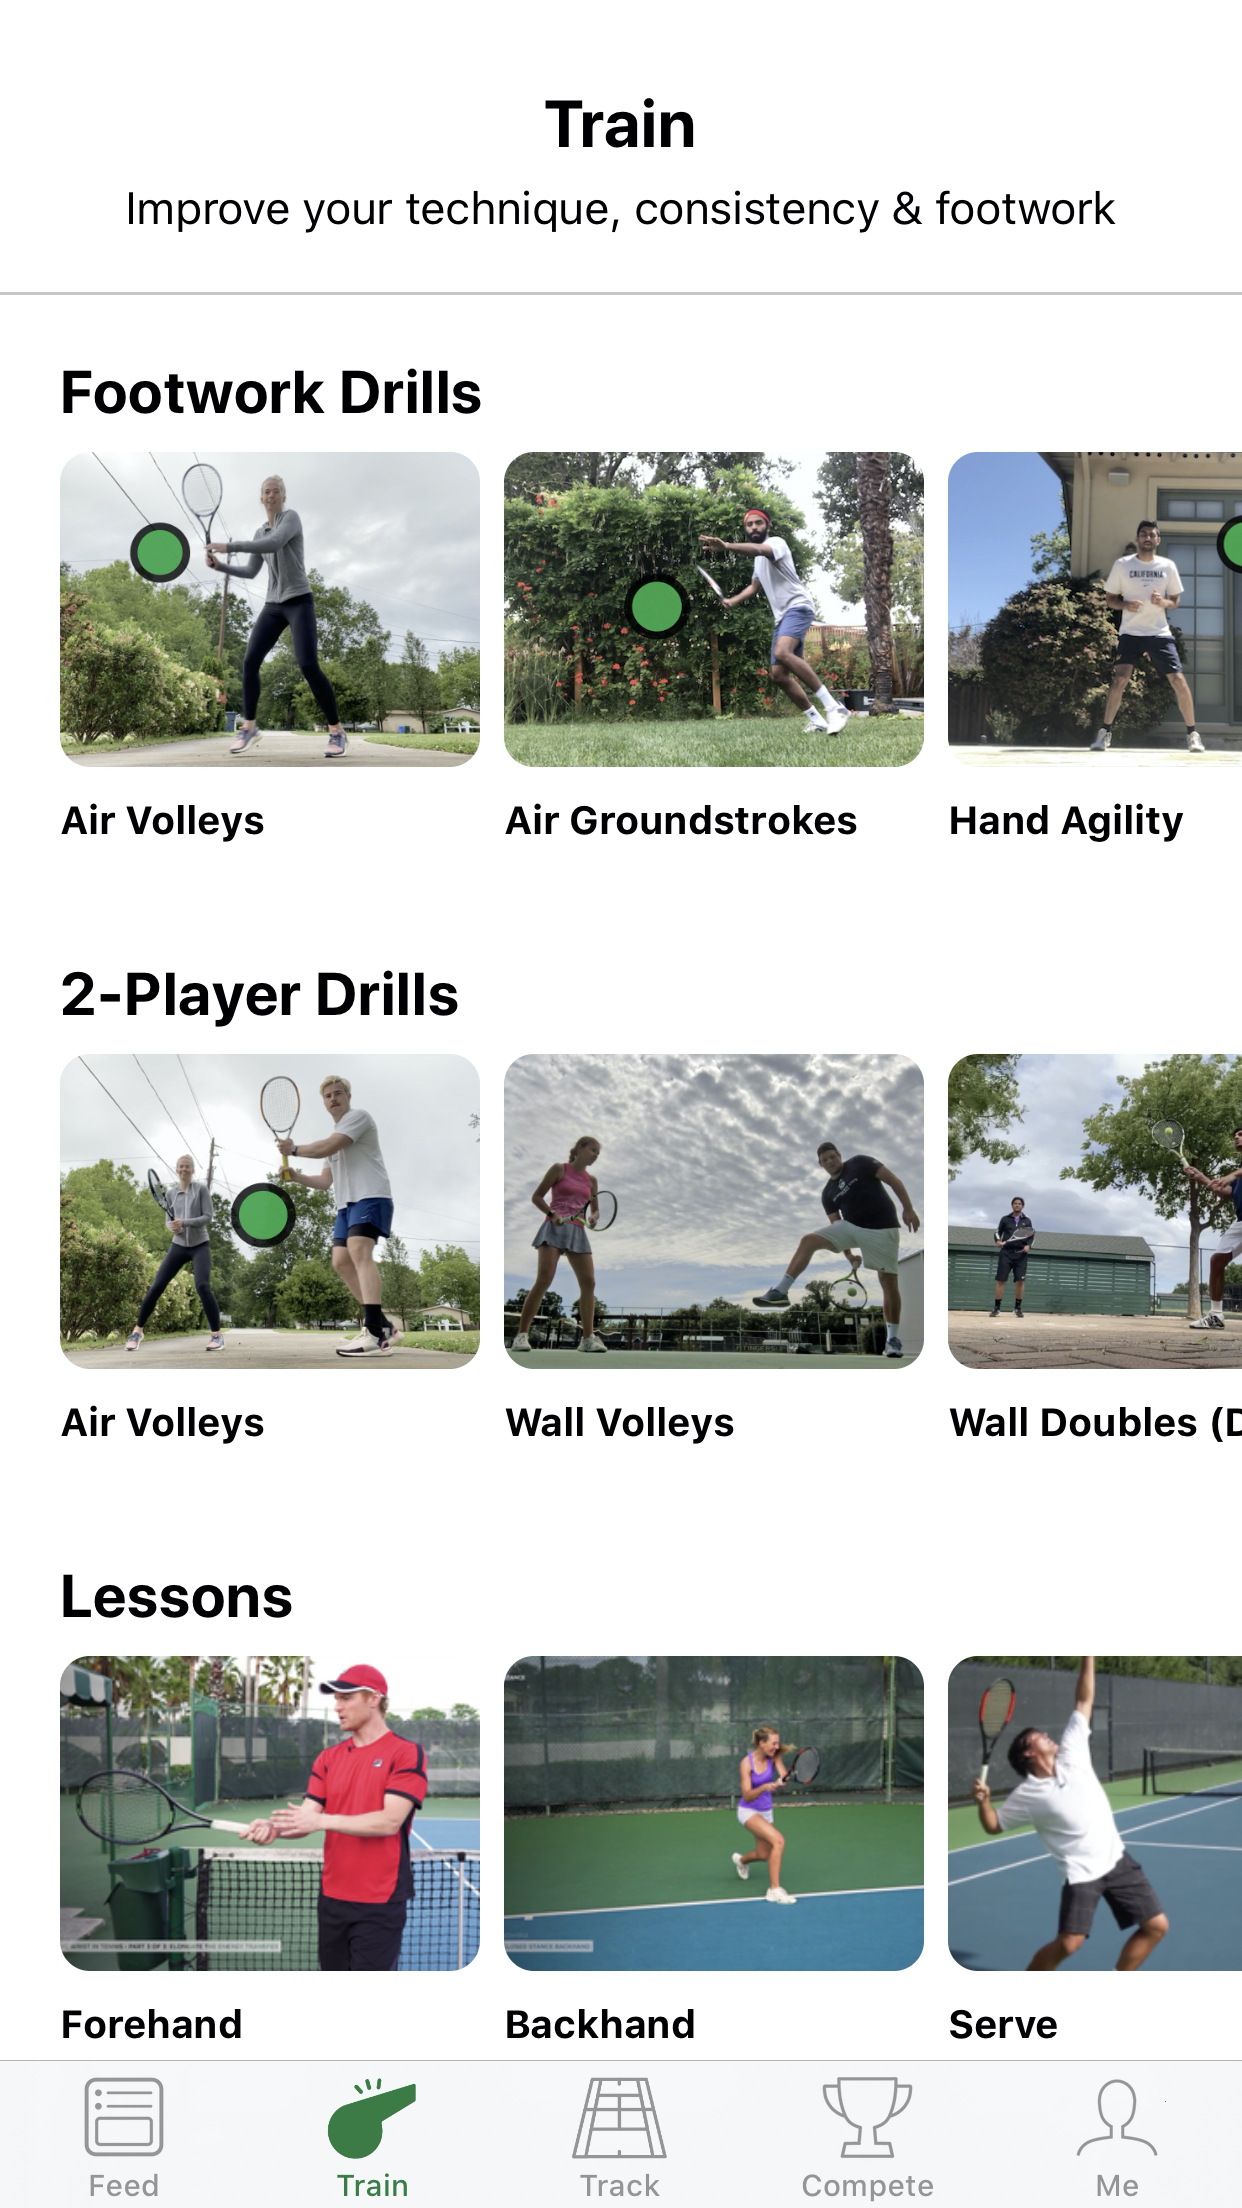Icon: (572, 2078, 667, 2159), (822, 2078, 913, 2158), (328, 2078, 416, 2159), (83, 2076, 165, 2156), (1077, 2078, 1157, 2156)
Image: (503, 1656, 924, 1971), (503, 1054, 924, 1369), (61, 1054, 481, 1369), (503, 452, 924, 767), (61, 452, 481, 767), (61, 1656, 479, 1971), (946, 1656, 1242, 1971), (948, 1054, 1242, 1369), (948, 452, 1240, 767)
Text: (129, 190, 1116, 234), (62, 971, 458, 1027), (64, 369, 481, 414), (505, 804, 857, 836), (949, 1407, 1242, 1442), (64, 1574, 293, 1618), (949, 804, 1184, 842), (505, 1407, 734, 1444), (61, 1404, 264, 1444), (61, 804, 264, 842), (544, 99, 695, 149), (507, 2008, 695, 2040), (64, 2008, 241, 2040), (802, 2175, 933, 2202), (949, 2009, 1057, 2040), (579, 2172, 660, 2197), (337, 2173, 408, 2197), (89, 2175, 159, 2197), (1096, 2173, 1137, 2196)
